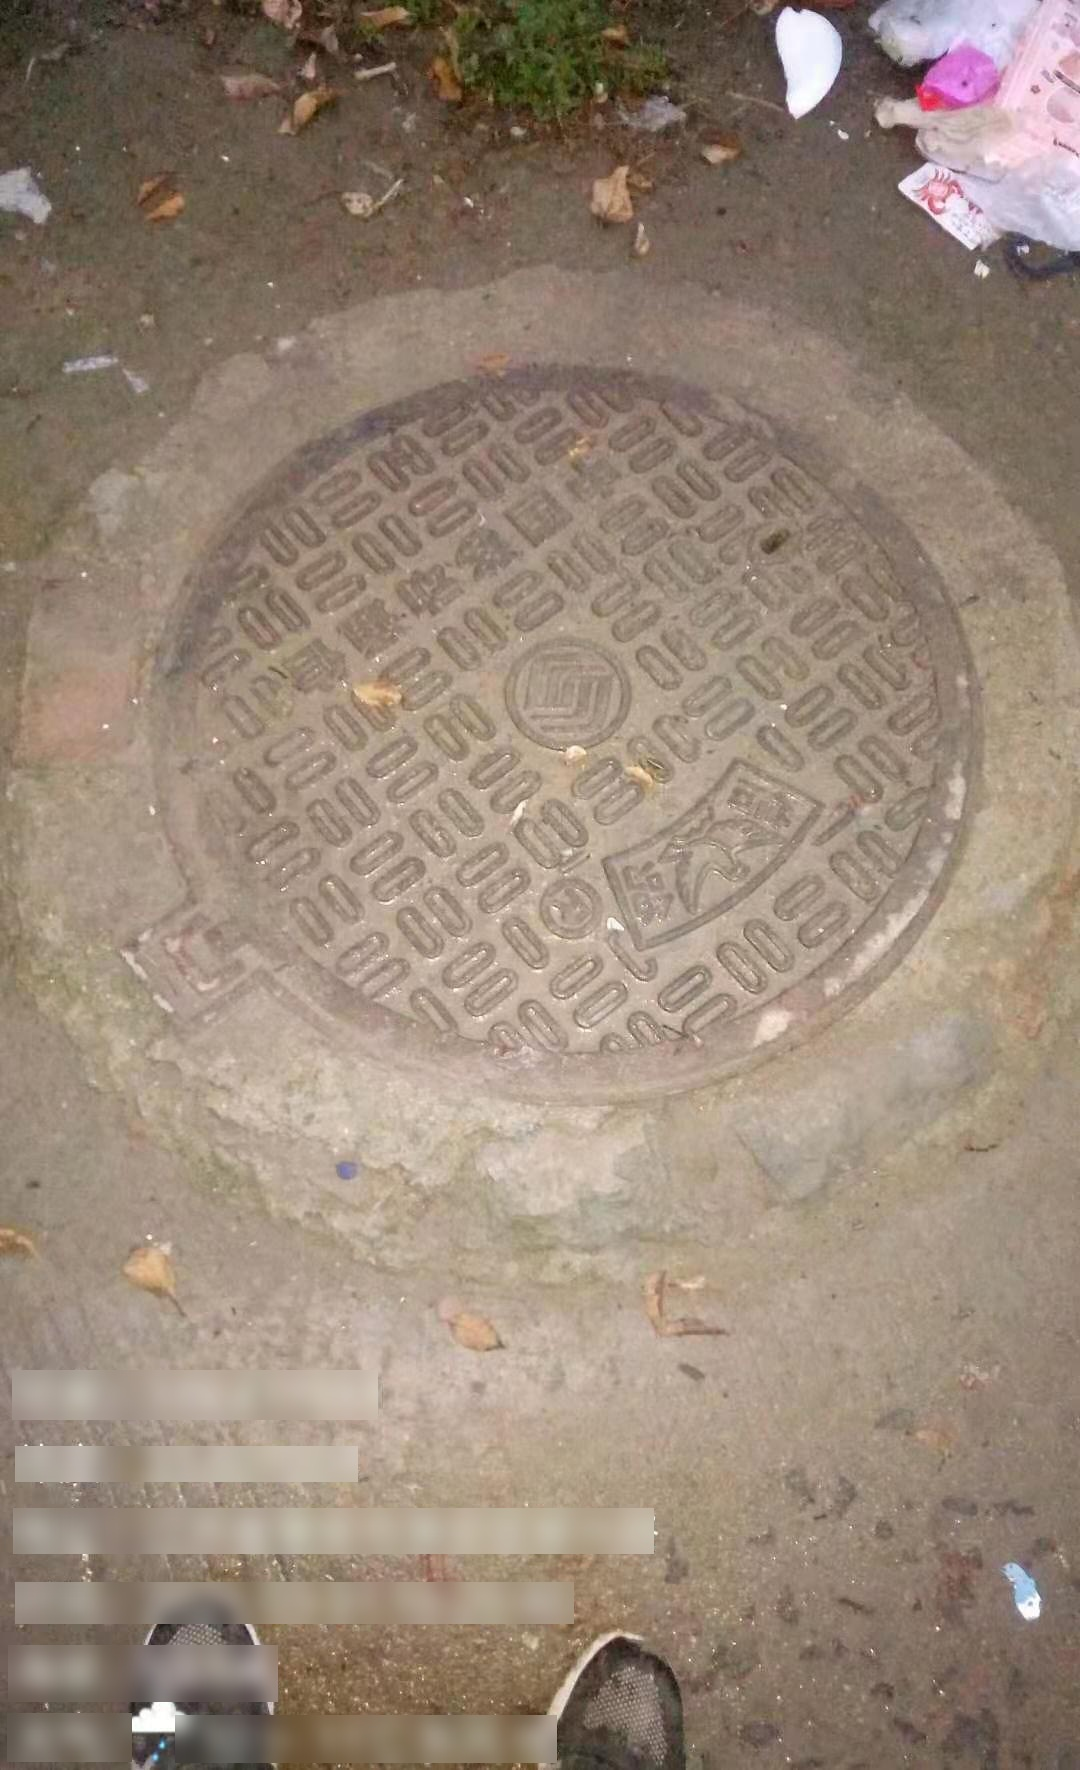well: (126, 357, 983, 1090)
